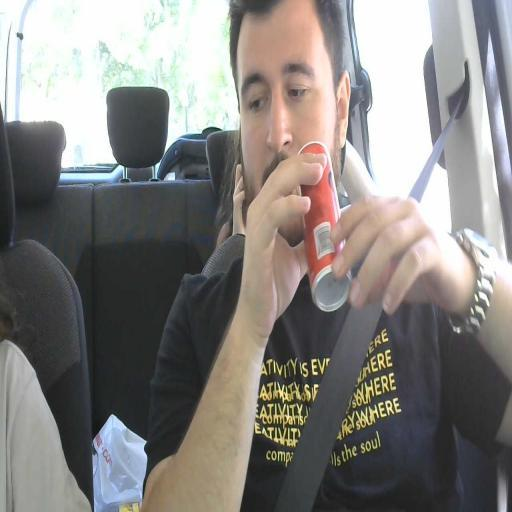Drinking: (241, 10, 348, 313)
